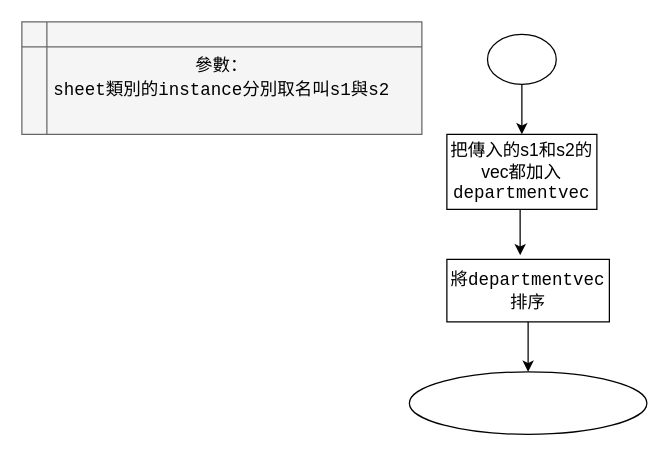
Some shapes in this 669 by 456 pixel diagram are drawn without their labels. The shapes that lost their labels are listed below. From the top down, each one's centre as x and y in pixels, then its label:
At (x=521, y=58): "start".
At (x=527, y=402): "end (return的檔名=兩檔綜合)".
